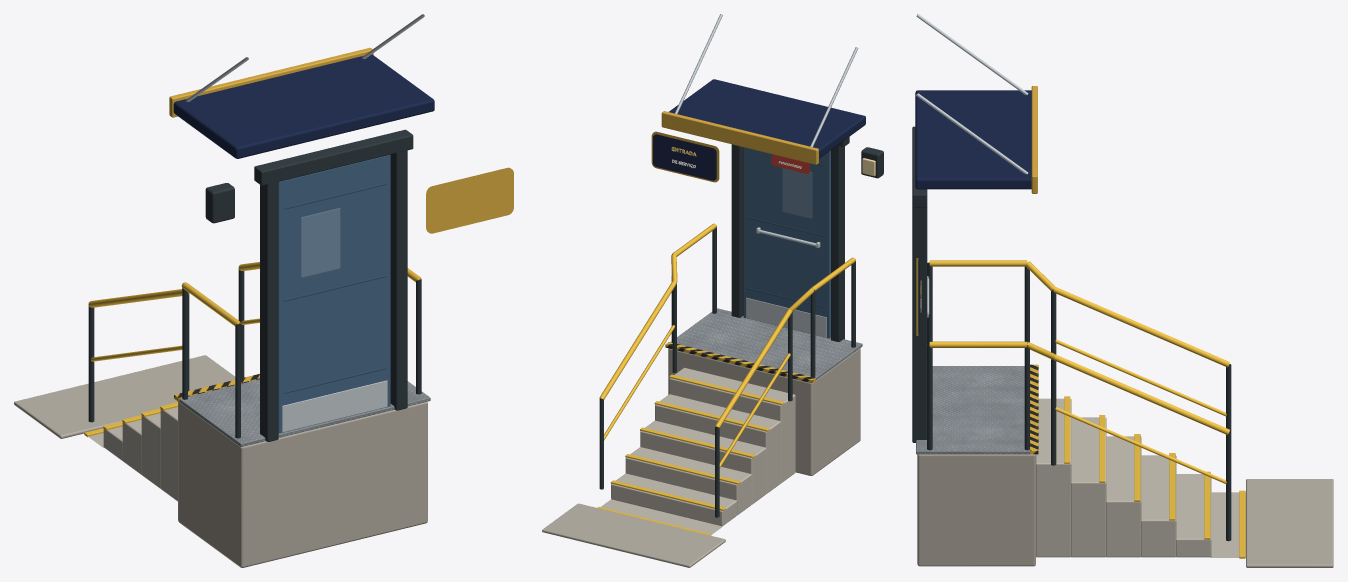
File: staff-warehouse-door.fbx
3 renders of one model, left to right at view 1: azimuth 30°, elevation 25°; view 2: azimuth 150°, elevation 25°; view 3: azimuth 270°, elevation 25°, orthographic. The views are drawn at different scales.
Visible parts, largest first — view 1: Body, Anim Leaf; view 2: Body, Anim Leaf; view 3: Body.
Part boxes in pixels (left/top/right/bottom): Body: left=14, top=14, right=513, bottom=567; Anim Leaf: left=278, top=155, right=390, bottom=433; Body: left=542, top=14, right=883, bottom=567; Anim Leaf: left=743, top=147, right=830, bottom=338; Body: left=912, top=14, right=1333, bottom=567.
Size of the model in its own units: 2.57 by 4.17 by 3.37.
